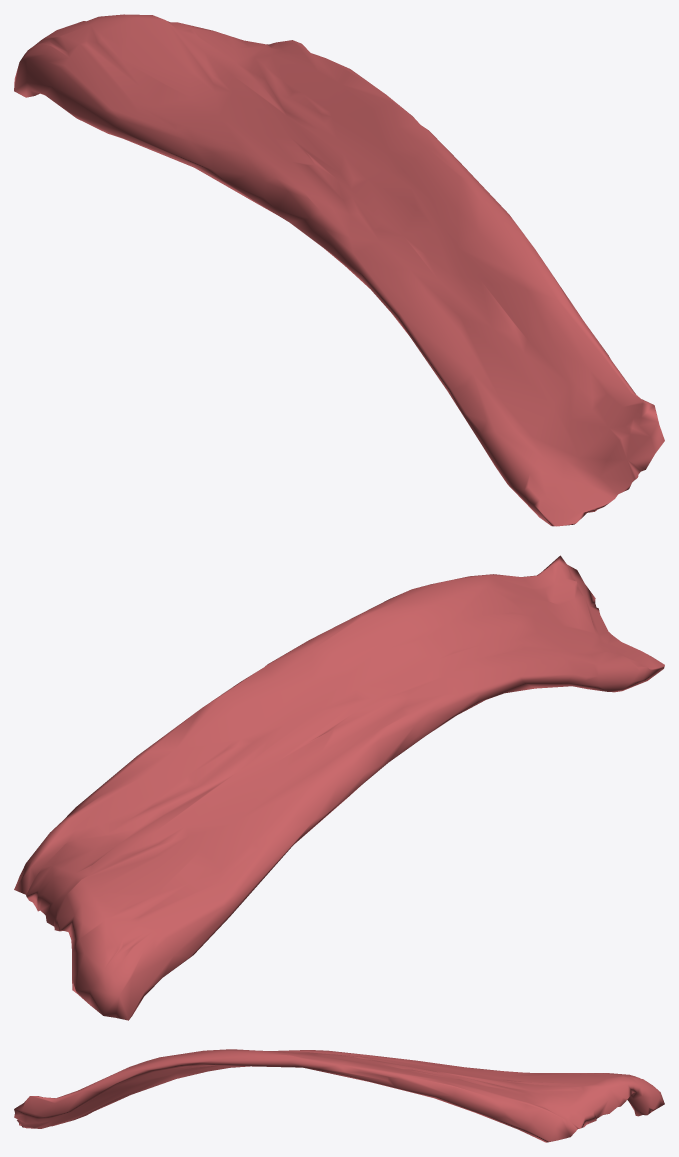
The picture shows the model from 3 angles, top to bottom: view 1: azimuth 30°, elevation 25°; view 2: azimuth 150°, elevation 25°; view 3: azimuth 270°, elevation 25°; orthographic projection. The views are drawn at different scales.
Visible parts, largest first — view 1: 左侧胸骨舌骨肌; view 2: 左侧胸骨舌骨肌; view 3: 左侧胸骨舌骨肌.
Part boxes in pixels (<box>): 左侧胸骨舌骨肌: <box>14,14,664,526</box>; 左侧胸骨舌骨肌: <box>14,555,664,1020</box>; 左侧胸骨舌骨肌: <box>14,1049,664,1142</box>.
Bounding box in the file's own units: 0.0351 × 0.0275 × 0.1593.
